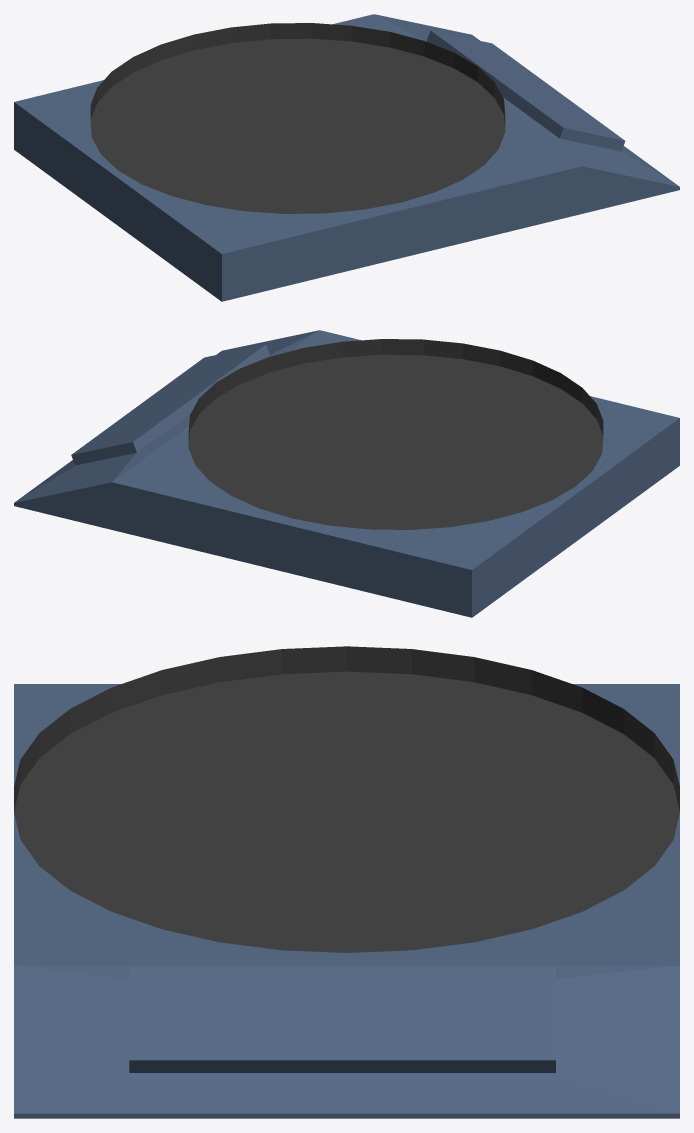
Rendered from scale.fbx.
3 renders of one model, top to bottom at view 1: azimuth 30°, elevation 25°; view 2: azimuth 150°, elevation 25°; view 3: azimuth 270°, elevation 25°, orthographic. The views are drawn at different scales.
Parts seen in each view (by area): view 1: Cube.001; view 2: Cube.001; view 3: Cube.001.
Boxes of the visible parts, bbox=[...] form: Cube.001: bbox=[14, 14, 679, 301]; Cube.001: bbox=[14, 330, 679, 617]; Cube.001: bbox=[14, 646, 679, 1118].
Size of the model in its own units: 254 by 37.83 by 200.
